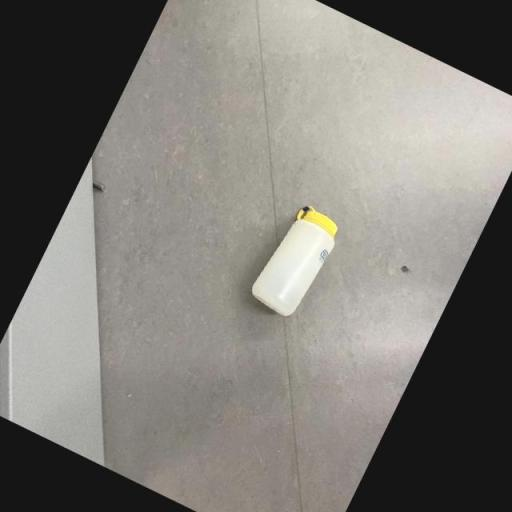bottle: (245, 197, 345, 323)
